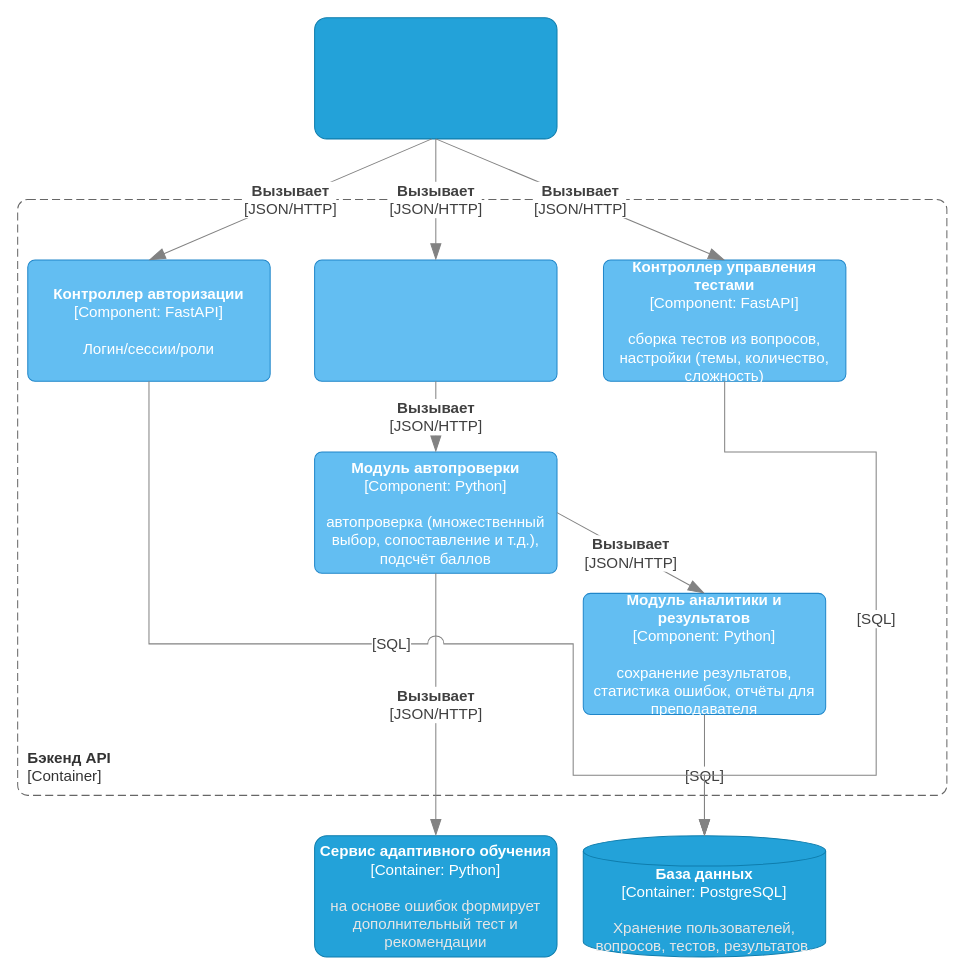
Image size: 965x975. Some labels were removed from this diagram. Here are the shapes that lost their labels. From the top down, the box of each, then its label:
(314, 17, 557, 139): Веб-клиент [Container: HTML/CSS/JS] UI для студента/преподавателя
(314, 259, 557, 381): Контроллер тестирования [Component: FastAPI] CRUD вопросов, тем, типов вопросов
